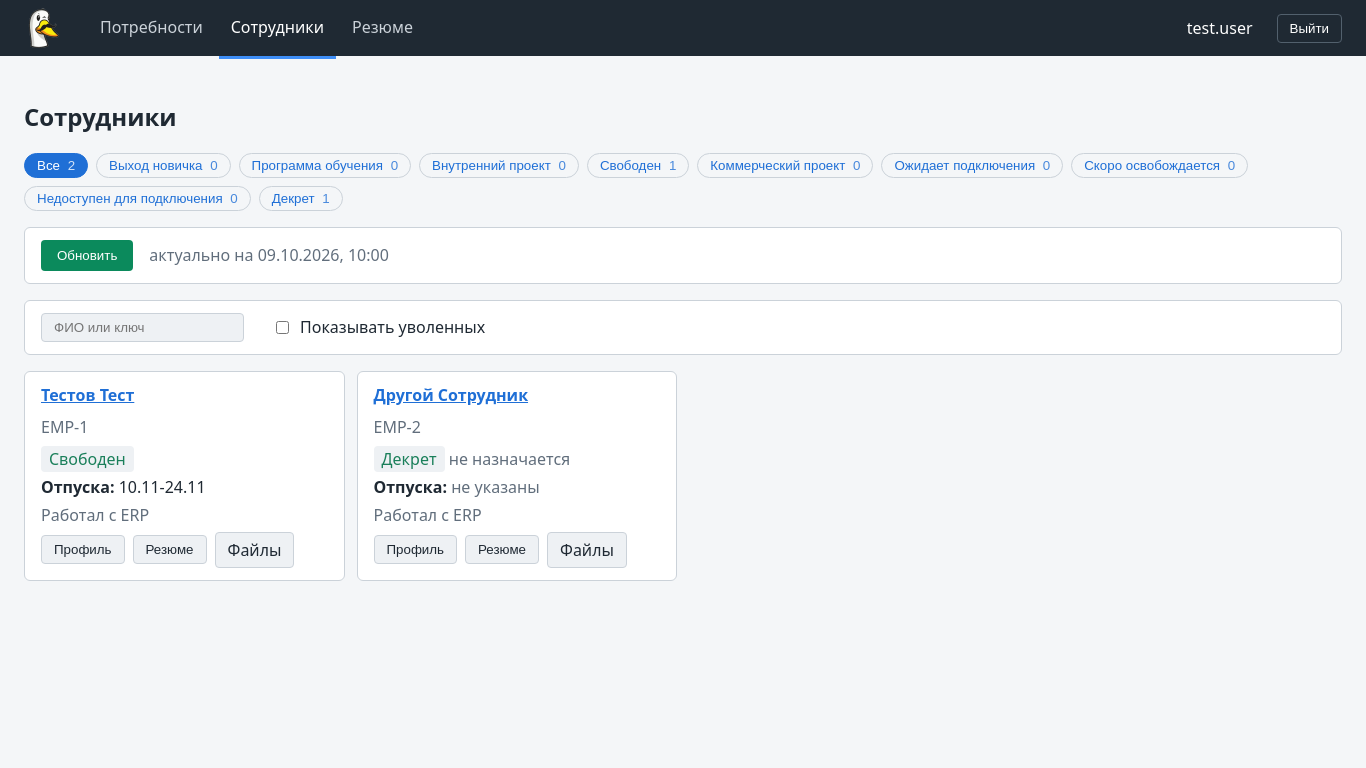
Test case: Сотрудники › карточка: ФИО, статус, отпуска; фильтр по статусу
This screenshot has width=1366, height=768.
Expected: the text "Свободен" is shown, [41,446,134,472]
Expected: the text "Отпуска: 10.11-24.11" is shown, [41,476,206,498]
Click the button "Декрет 1". click: (301, 198)
box: [259,186,343,211]
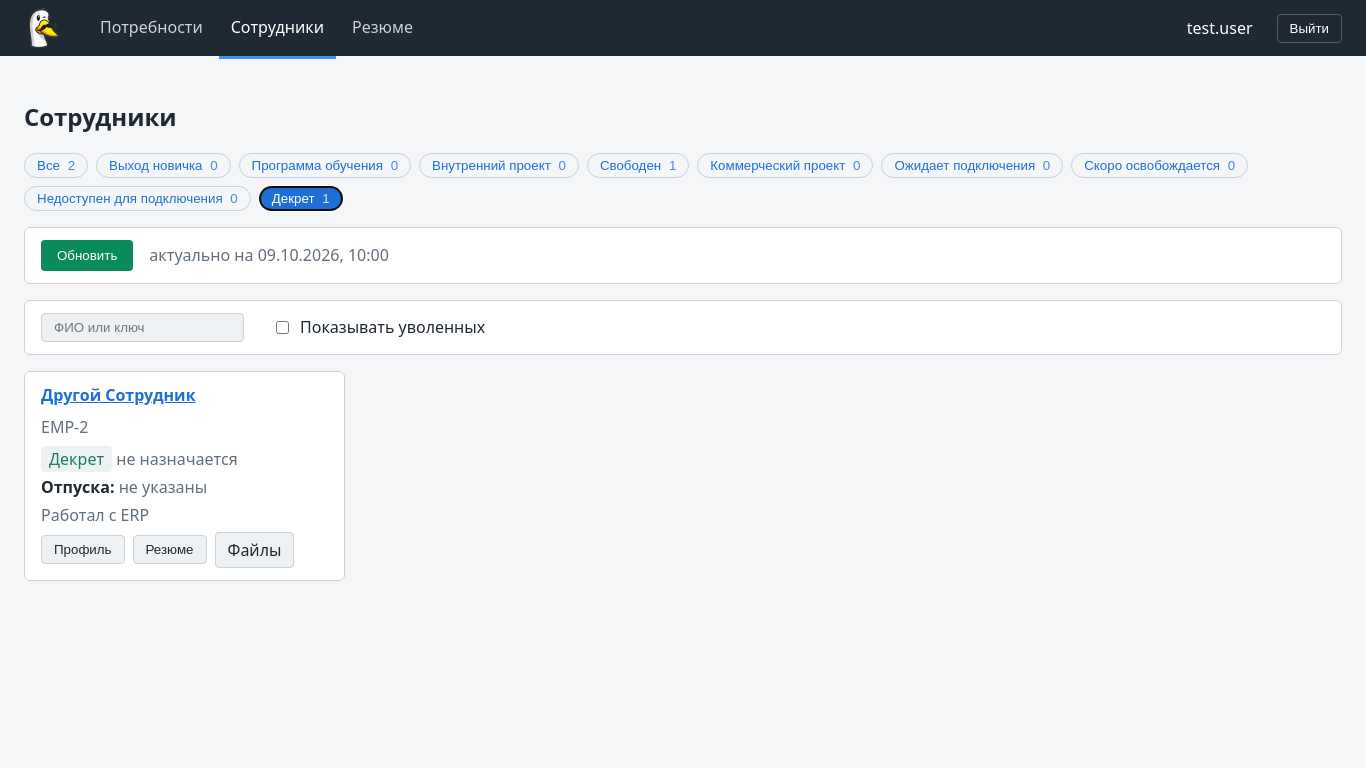
Expected: the text "не назначается" is shown, [116,448,238,470]
Expected: the link "Тестов Тест" is gone
